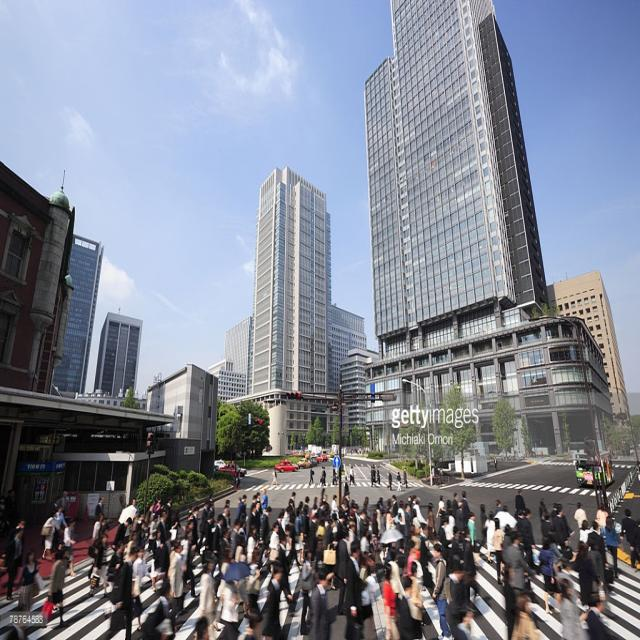body: (180, 483, 412, 553), (107, 545, 135, 639), (39, 545, 69, 630), (503, 530, 538, 598), (443, 562, 473, 640), (130, 544, 156, 631), (432, 543, 454, 640), (16, 547, 42, 628), (538, 535, 564, 615), (574, 542, 605, 606), (558, 575, 588, 639), (276, 528, 298, 613), (306, 567, 331, 639), (346, 539, 366, 627), (262, 564, 285, 639), (380, 561, 401, 639), (509, 591, 542, 640), (358, 550, 377, 633), (399, 574, 423, 639), (145, 586, 173, 640), (460, 524, 478, 606), (298, 547, 314, 636), (335, 524, 350, 616), (587, 583, 611, 640), (102, 540, 124, 602), (199, 555, 215, 639), (180, 527, 198, 600), (220, 578, 241, 640), (619, 506, 639, 570), (91, 533, 110, 599), (408, 560, 426, 628), (602, 514, 621, 578), (59, 516, 78, 579), (6, 528, 22, 602), (504, 564, 518, 640), (588, 540, 604, 602), (522, 506, 536, 572), (492, 516, 505, 586), (41, 508, 58, 560), (550, 501, 570, 545), (111, 516, 133, 555), (7, 604, 30, 639), (268, 521, 282, 577), (438, 515, 452, 571), (133, 511, 148, 563), (483, 510, 497, 565), (243, 524, 260, 565), (555, 506, 570, 551), (212, 512, 226, 560), (228, 518, 242, 564), (0, 519, 11, 573), (243, 612, 263, 640), (455, 609, 473, 640), (411, 496, 427, 530), (402, 503, 412, 556), (147, 514, 159, 558), (451, 526, 466, 561), (403, 539, 416, 579), (189, 615, 209, 640), (128, 498, 139, 542), (170, 508, 181, 552), (586, 520, 600, 554), (467, 510, 478, 552), (574, 500, 589, 530), (136, 524, 149, 558), (156, 511, 168, 547), (426, 500, 436, 542), (53, 503, 68, 531), (91, 512, 105, 542), (152, 496, 161, 542), (144, 500, 154, 541), (5, 487, 14, 532), (342, 441, 373, 454), (164, 496, 173, 540), (596, 501, 610, 529), (540, 512, 554, 540), (498, 504, 512, 532), (479, 502, 488, 545), (454, 500, 466, 532), (361, 494, 370, 536), (461, 490, 471, 526), (435, 494, 447, 524), (374, 496, 386, 526), (12, 516, 27, 539), (514, 488, 527, 514), (58, 486, 70, 514), (0, 496, 7, 544), (578, 518, 591, 543), (444, 497, 452, 537), (429, 461, 444, 482), (94, 495, 105, 522), (391, 491, 398, 533), (516, 510, 525, 542), (151, 530, 163, 554), (315, 515, 327, 538), (248, 502, 259, 527), (260, 488, 268, 522), (236, 496, 246, 522), (502, 524, 512, 549), (396, 501, 406, 526), (331, 493, 338, 528), (411, 508, 422, 529), (50, 495, 60, 518), (493, 497, 503, 518), (372, 510, 379, 538), (270, 465, 278, 488), (401, 465, 409, 488), (307, 465, 315, 487), (165, 530, 172, 555), (348, 465, 356, 486), (124, 530, 137, 542), (332, 465, 339, 486), (302, 496, 310, 514), (250, 494, 258, 512), (452, 492, 459, 511), (289, 491, 296, 510), (539, 496, 545, 518), (318, 465, 324, 487), (370, 463, 376, 485), (236, 469, 242, 490), (396, 471, 402, 492), (387, 467, 392, 491), (321, 465, 326, 488), (173, 543, 181, 555), (352, 502, 360, 514), (493, 455, 498, 474), (635, 508, 640, 527), (410, 494, 416, 509), (376, 465, 380, 485), (594, 503, 602, 512), (5, 488, 9, 495)
